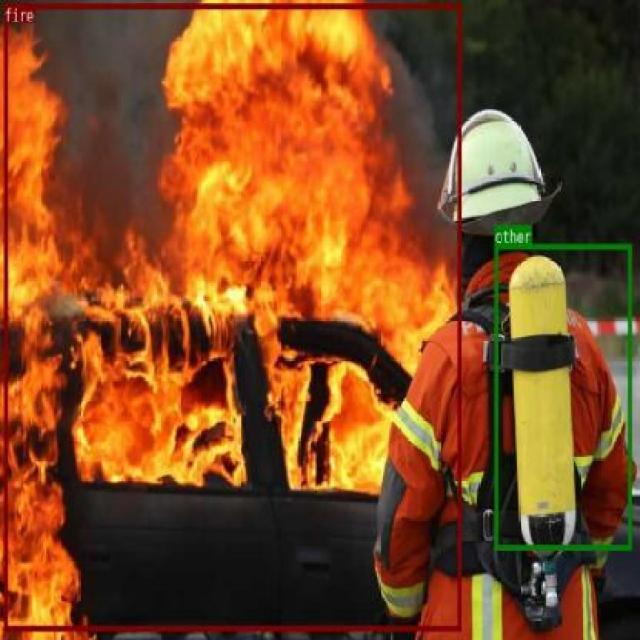Fire: (3, 2, 460, 630)
